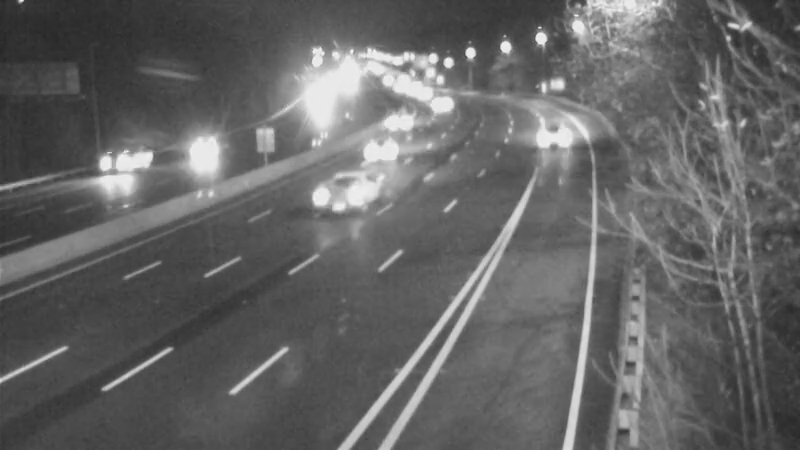vehicle: (299, 160, 379, 240), (71, 123, 151, 203), (163, 115, 243, 195), (402, 69, 452, 119), (417, 78, 467, 128), (522, 110, 572, 160), (373, 97, 423, 147), (356, 117, 406, 167)
